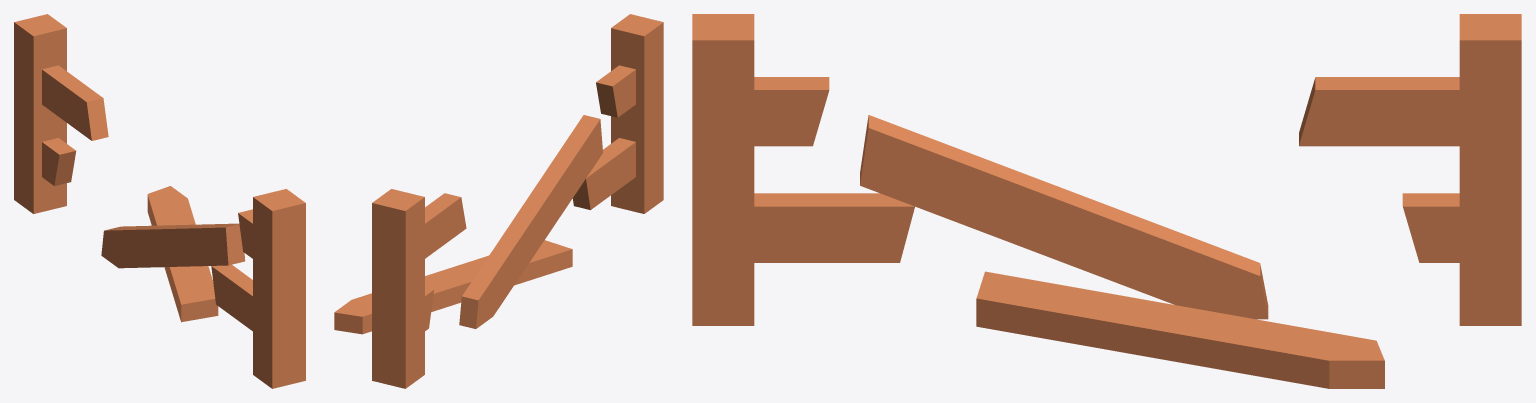
File: fenceBroken.dae
The picture shows the model from 3 angles, left to right: view 1: azimuth 30°, elevation 25°; view 2: azimuth 150°, elevation 25°; view 3: azimuth 270°, elevation 25°; orthographic projection. The views are drawn at different scales.
Visible parts, largest first — view 1: fenceBroken; view 2: fenceBroken; view 3: fenceBroken.
Boxes of the visible parts, bbox=[...] form: fenceBroken: bbox=[14, 14, 305, 388]; fenceBroken: bbox=[334, 14, 663, 388]; fenceBroken: bbox=[692, 14, 1521, 388].
Bounding box in the file's own units: 0.2547 × 0.38 × 1.
